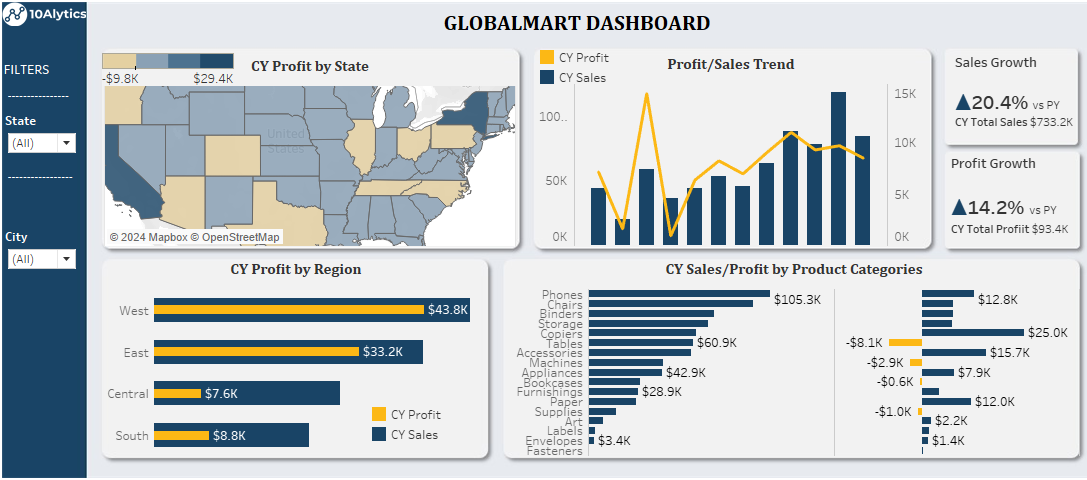

This screenshot's page, from the dashboard's own definition file:
{"tool":"tableau","page":{"name":"Dashboard 1","canvas":[1150,500],"ordinal":0},"visuals":[{"type":"image","param":"C:/Users/Ify/Documents/10Alytics/week 7/extra mat/dashbboard background1.jpg","box":[8,8,1134,484]},{"type":"image","param":"C:/Users/Ify/Documents/10Alytics/week 7/extra mat/10Alytics Logo White HD.png","box":[12,12,84,35]},{"type":"text","box":[451,17,303,32]},{"type":"legend","title":"Profit/Sales Trend","param":"[federated.1v9kyhz1kla3m31gm8nw70as9uvi].[:Measure Names]","box":[547,57,110,42]},{"type":"legend","title":"CY Profit by State","param":"[federated.1v9kyhz1kla3m31gm8nw70as9uvi].[sum:Calculation_860187576059637766:qk]","box":[108,59,140,39]},{"type":"worksheet","title":"Profit/Sales Trend","mark":"Automatic","rows":["Calculation_860187576047112193","Calculation_860187576059637766"],"cols":["Order Date"],"box":[545,61,392,195]},{"type":"worksheet","title":"Sales Growth KPI","mark":"Automatic","box":[961,62,142,93]},{"type":"worksheet","title":"CY Profit by State","mark":"Automatic","box":[114,63,412,194]},{"type":"text","box":[11,64,84,30]},{"type":"text","box":[11,93,82,25]},{"type":"filter","title":"CY Profit by State","param":"[federated.1v9kyhz1kla3m31gm8nw70as9uvi].[none:State:nk]","box":[11,118,82,52]},{"type":"worksheet","title":"Profit Growth KPI","mark":"Automatic","box":[957,164,145,105]},{"type":"text","box":[11,170,82,32]},{"type":"blank","box":[11,202,82,32]},{"type":"filter","title":"CY Profit by State","param":"[federated.1v9kyhz1kla3m31gm8nw70as9uvi].[none:City:nk]","box":[11,234,82,52]},{"type":"worksheet","title":"CY Profit by Region","mark":"Bar","rows":["Region"],"cols":["Calculation_860187576047112193","Calculation_860187576059637766"],"box":[116,266,380,200]},{"type":"worksheet","title":"CY Sales/Profit by Product Categories","mark":"Automatic","rows":["Sub-Category"],"cols":["Calculation_860187576047112193","Calculation_860187576059637766"],"box":[518,266,572,200]},{"type":"legend","title":"CY Profit by Region","param":"[federated.1v9kyhz1kla3m31gm8nw70as9uvi].[:Measure Names]","box":[379,414,103,41]}]}

Visuals, with their boxes in screenshot pixels (x1, y1, x2, y2), scaled from the page's 1150x500 canvas onto the 1087x480 screenshot:
image: box=[8, 8, 1079, 472]
image: box=[11, 12, 91, 45]
text: box=[426, 16, 713, 47]
"Profit/Sales Trend" legend: box=[517, 55, 621, 95]
"CY Profit by State" legend: box=[102, 57, 234, 94]
"Profit/Sales Trend" worksheet: box=[515, 59, 886, 246]
"Sales Growth KPI" worksheet: box=[908, 60, 1043, 149]
"CY Profit by State" worksheet: box=[108, 60, 497, 247]
text: box=[10, 61, 90, 90]
text: box=[10, 89, 88, 113]
"CY Profit by State" filter: box=[10, 113, 88, 163]
"Profit Growth KPI" worksheet: box=[905, 157, 1042, 258]
text: box=[10, 163, 88, 194]
blank: box=[10, 194, 88, 225]
"CY Profit by State" filter: box=[10, 225, 88, 275]
"CY Profit by Region" worksheet (Bar marks): box=[110, 255, 469, 447]
"CY Sales/Profit by Product Categories" worksheet: box=[490, 255, 1030, 447]
"CY Profit by Region" legend: box=[358, 397, 456, 437]
